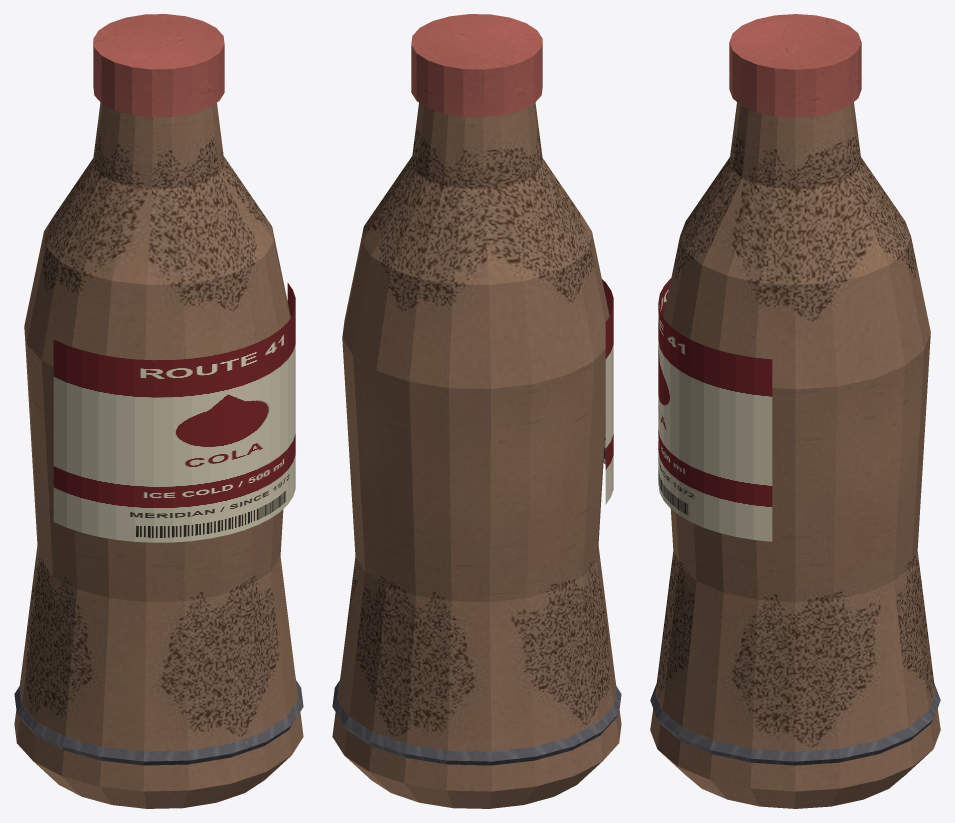
The model's file is product_cola_bottle.glb.
3 renders of one model, left to right at view 1: azimuth 30°, elevation 25°; view 2: azimuth 150°, elevation 25°; view 3: azimuth 270°, elevation 25°, orthographic.
Visible parts, largest first — view 1: NC_product_cola_bottle; view 2: NC_product_cola_bottle; view 3: NC_product_cola_bottle.
Part boxes in pixels (box(x1,y1,x2,y2)): NC_product_cola_bottle: box(14, 14, 303, 808); NC_product_cola_bottle: box(332, 14, 621, 808); NC_product_cola_bottle: box(650, 14, 940, 808).
Size of the model in its own units: 0.088 by 0.24 by 0.088.
4 materials, 4 textured.
